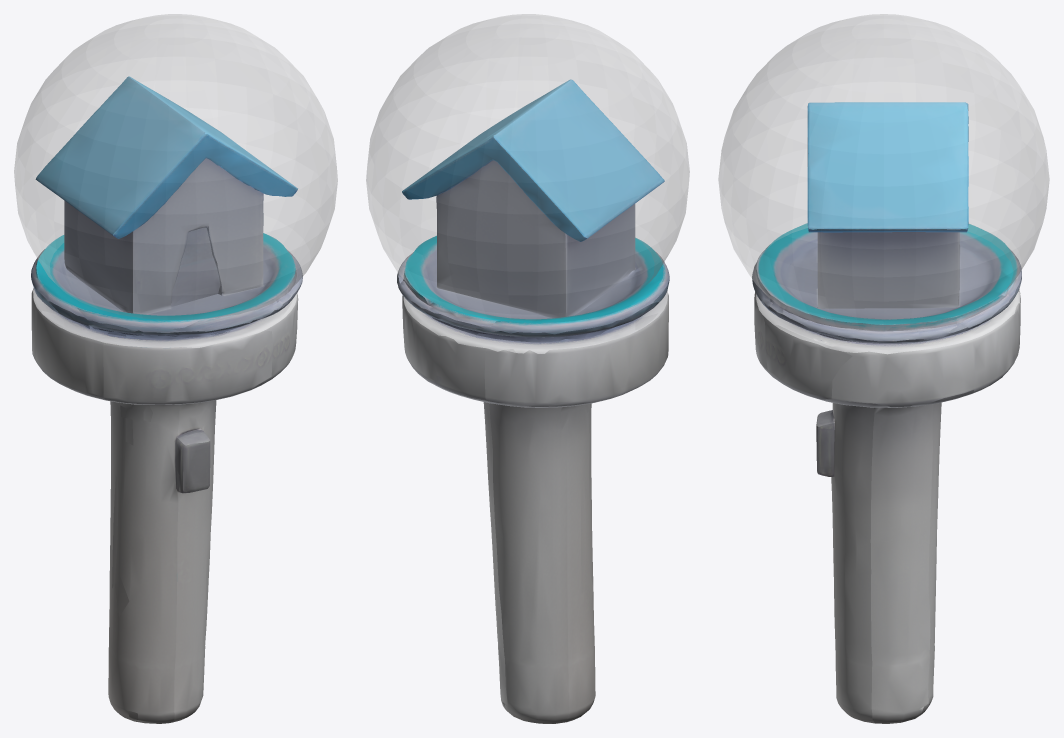
Rendered from trellis_wonderstick.glb.
3 renders of one model, left to right at view 1: azimuth 30°, elevation 25°; view 2: azimuth 150°, elevation 25°; view 3: azimuth 270°, elevation 25°, orthographic. The views are drawn at different scales.
Visible parts, largest first — view 1: world, Sphere; view 2: world, Sphere; view 3: world, Sphere.
Boxes of the visible parts, box(x1,y1,x2,y2) form: world: box(31, 76, 302, 723); Sphere: box(14, 14, 337, 319); world: box(397, 79, 669, 723); Sphere: box(366, 14, 689, 320); world: box(752, 102, 1021, 723); Sphere: box(718, 14, 1049, 330).
Bounding box in the file's own units: 0.3432 × 0.7876 × 0.3432.
Materials: 2 (1 with a texture image).
